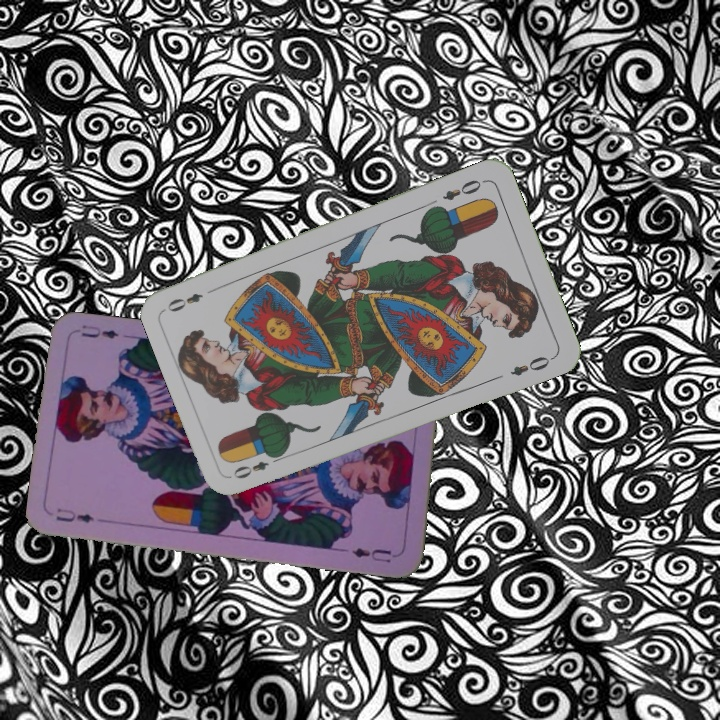EO: (229, 450, 285, 482), (438, 175, 488, 204)
EU: (52, 504, 96, 525)
